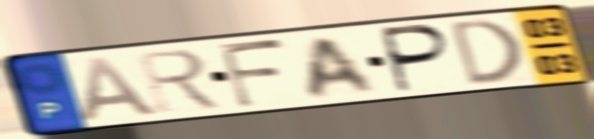A: (78, 55, 165, 124), (305, 33, 381, 101)
D: (446, 15, 526, 89)
F: (215, 37, 290, 111)
P: (380, 22, 454, 95)
R: (133, 46, 228, 115)
